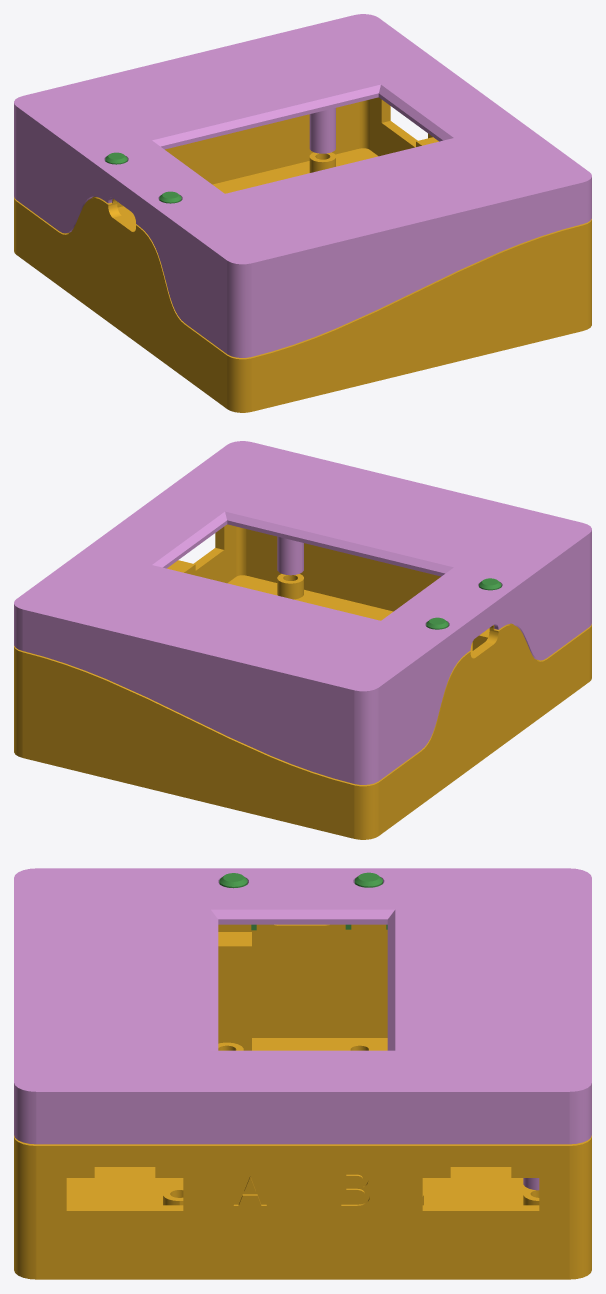
The model's file is blender-export.glb.
3 views of the same model, one above another, from view 1: azimuth 30°, elevation 25°; view 2: azimuth 150°, elevation 25°; view 3: azimuth 270°, elevation 25° (orthographic). The views are drawn at different scales.
Visible parts, largest first — view 1: Top, Bottom; view 2: Top, Bottom; view 3: Top, Bottom.
Part boxes in pixels (bbox=[...]): Top: bbox=[14, 14, 591, 357]; Bottom: bbox=[14, 97, 591, 412]; Top: bbox=[14, 441, 591, 784]; Bottom: bbox=[14, 524, 591, 839]; Top: bbox=[14, 868, 591, 1190]; Bottom: bbox=[14, 924, 591, 1279].
Size of the model in its own units: 0.0708 by 0.0283 by 0.0774.
